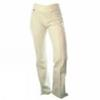pantaloni: (32, 4, 68, 98)
